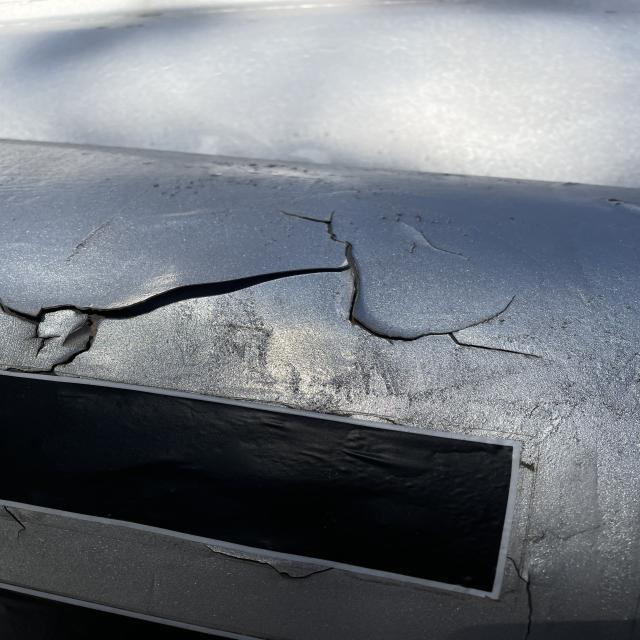crack: (348, 245, 534, 365), (23, 266, 331, 332), (291, 209, 349, 248)
